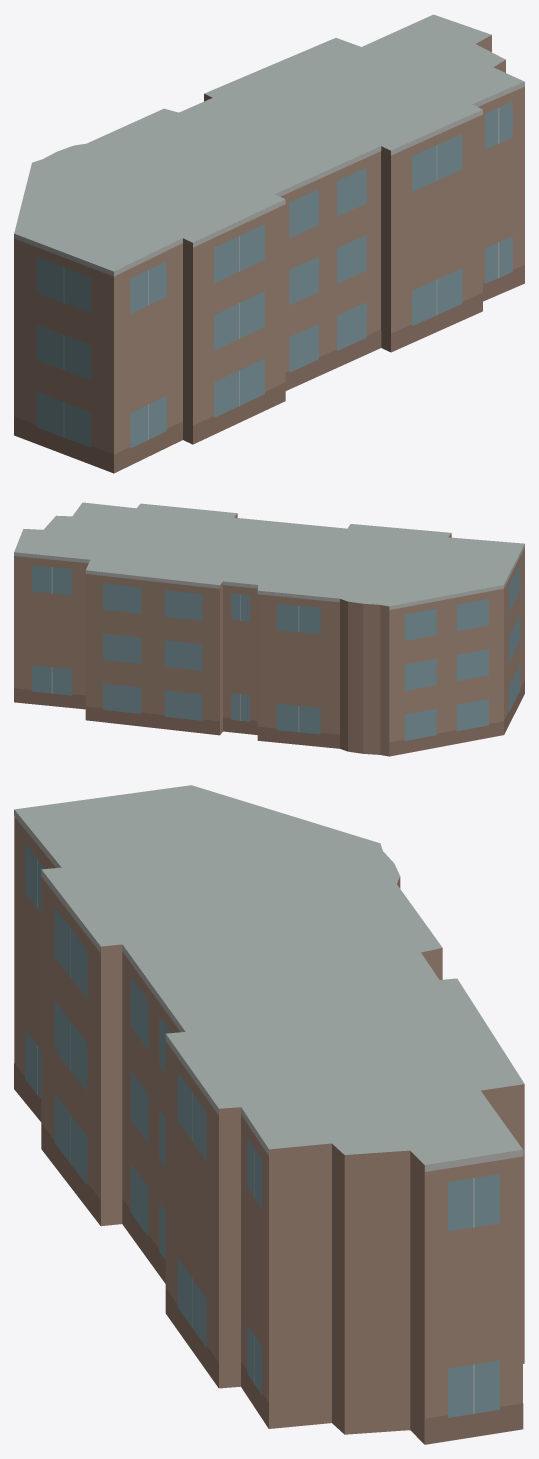
The model's file is survey-upis-32525859.glb.
3 renders of one model, top to bottom at view 1: azimuth 30°, elevation 25°; view 2: azimuth 150°, elevation 25°; view 3: azimuth 270°, elevation 25°, orthographic. The views are drawn at different scales.
Visible parts, largest first — view 1: survey-upis-32525859.tmp; view 2: survey-upis-32525859.tmp; view 3: survey-upis-32525859.tmp.
Part boxes in pixels (box(x1,y1,x2,y2)): survey-upis-32525859.tmp: box(14, 14, 524, 473); survey-upis-32525859.tmp: box(14, 502, 524, 756); survey-upis-32525859.tmp: box(14, 785, 524, 1444).
Size of the model in its own units: 29.01 by 9.95 by 16.48.
